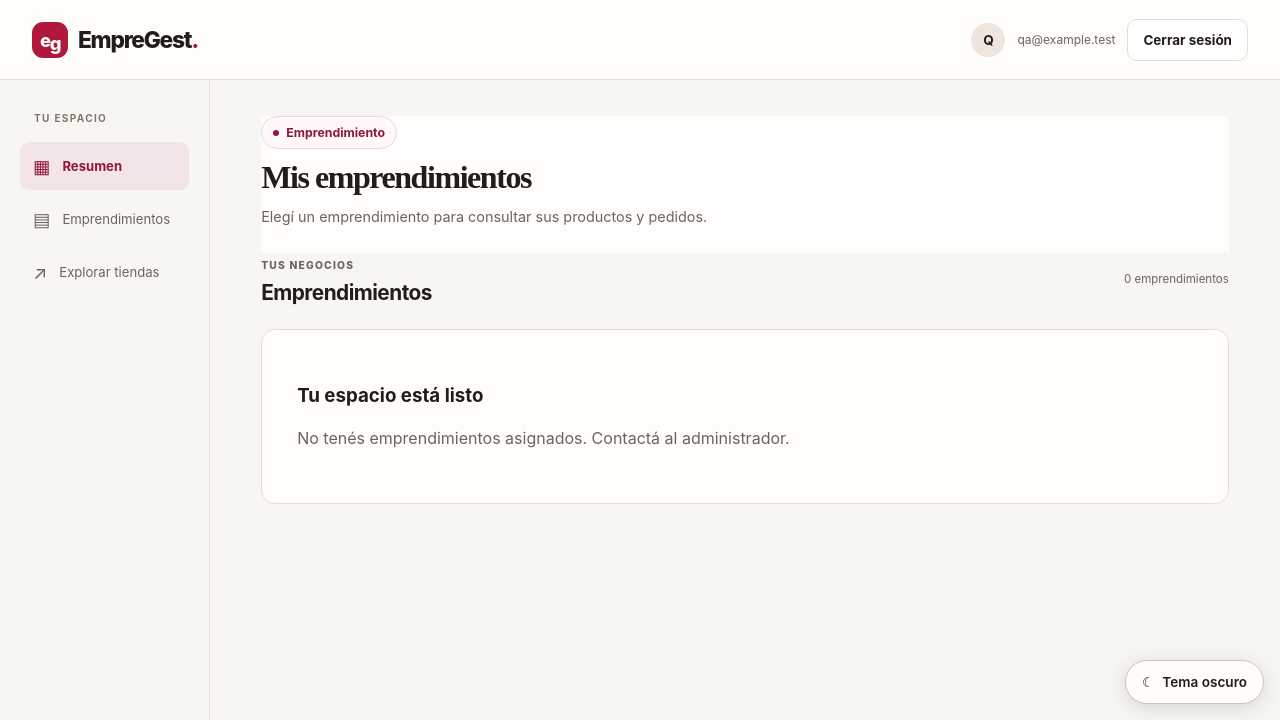
Test: CP-AUTH-03: restaura la sesión y retira el panel al cerrar sesión
Expected: the heading "Mis emprendimientos" is shown, [261,159,531,195]
Click the button "Cerrar sesión".
click(1188, 40)  # box [1127,18,1248,60]
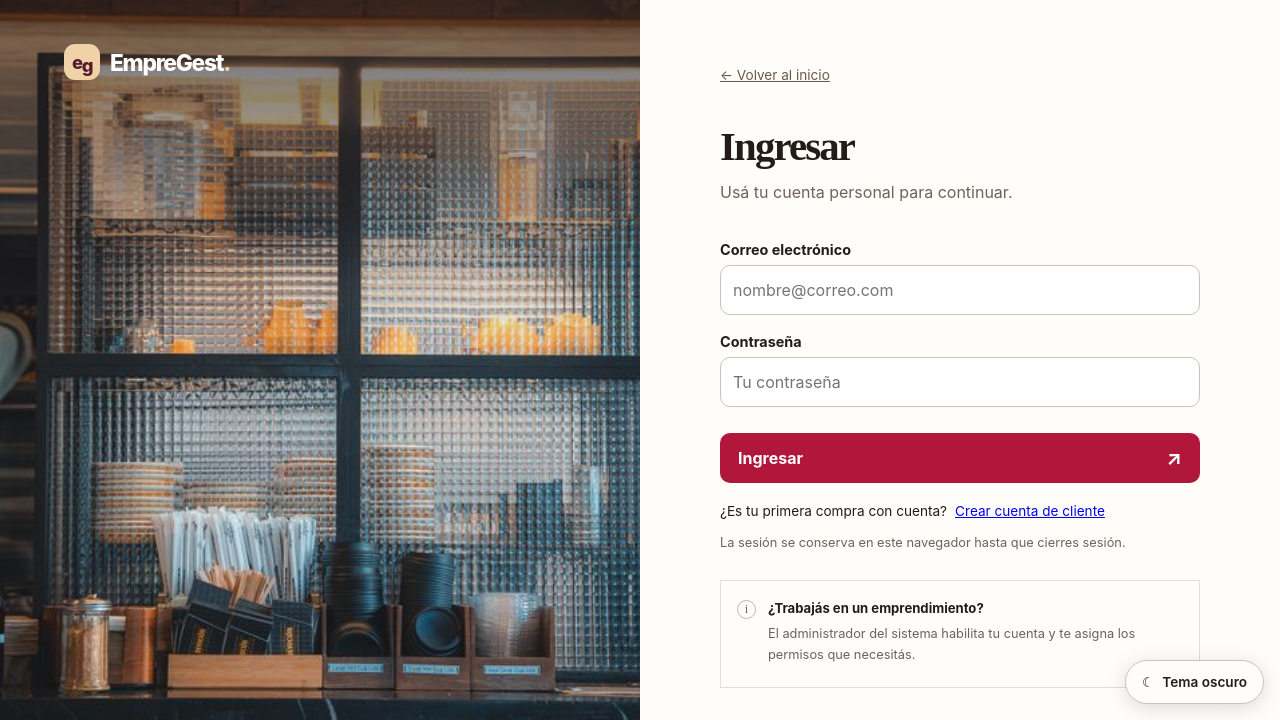
Expected: the heading "Ingresar" is shown, [720,124,854,169]
Expected: the text "qa@example.test" is gone
